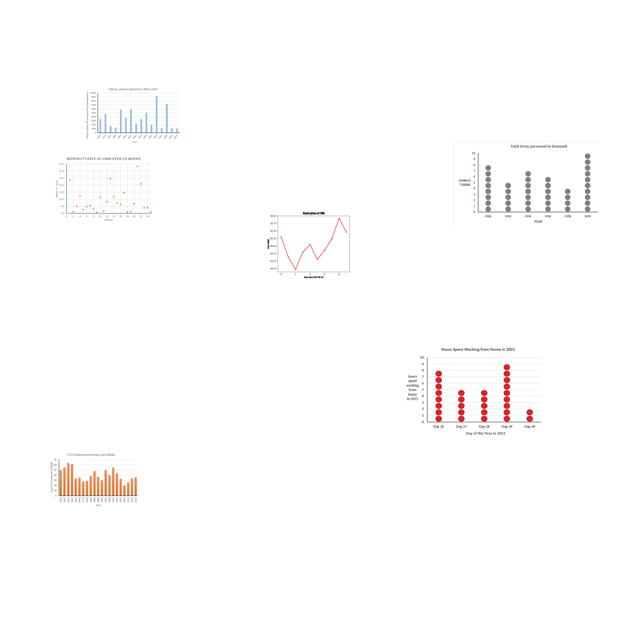Graph: (403, 345, 542, 437), (453, 141, 601, 227), (264, 207, 361, 280), (55, 155, 153, 223), (84, 87, 181, 144), (48, 452, 139, 508)
